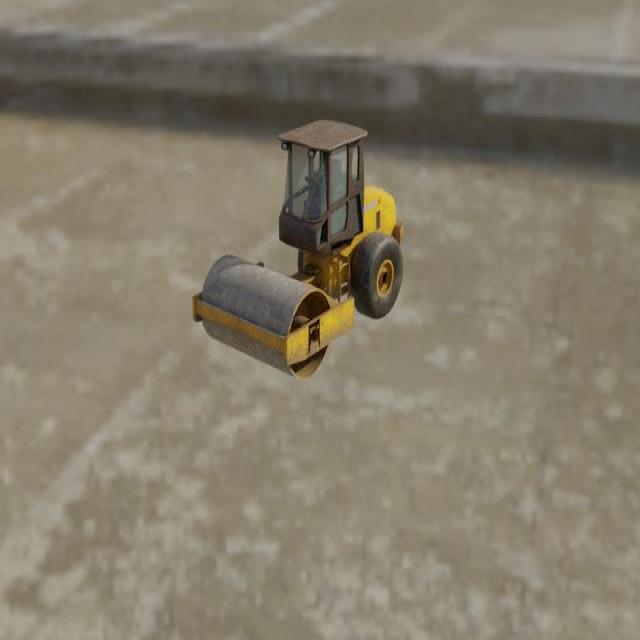Roller: (191, 119, 403, 380)
